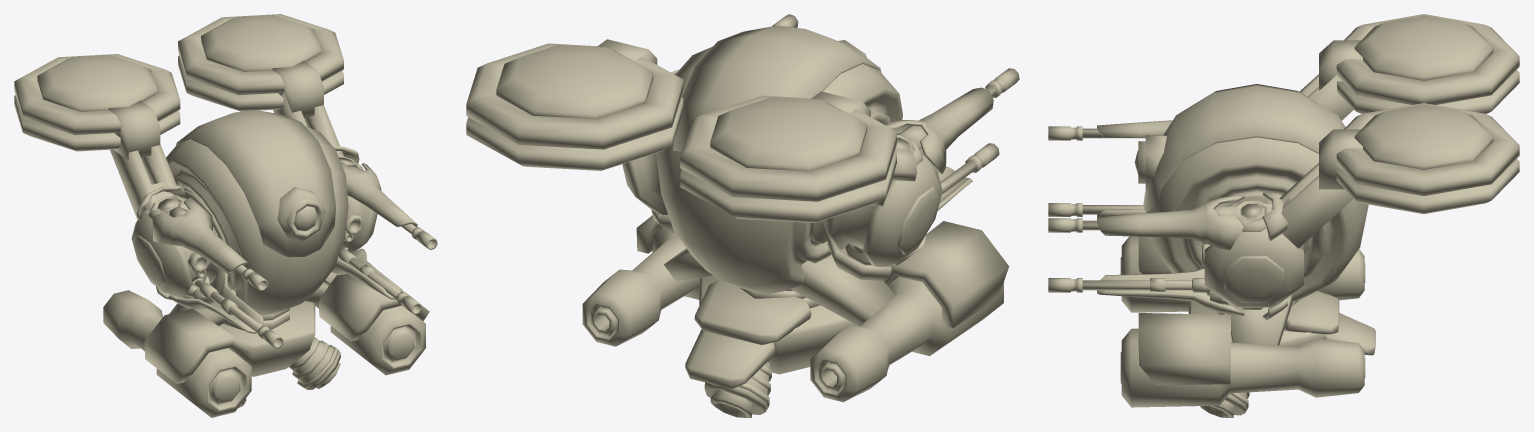
Rendered from robot02.obj.
3 views of the same model, side by side, from view 1: azimuth 30°, elevation 25°; view 2: azimuth 150°, elevation 25°; view 3: azimuth 270°, elevation 25° (orthographic). The views are drawn at different scales.
Visible parts, largest first — view 1: Generic, Cube, Cylinder, Sphere; view 2: Generic, Cube, Cylinder, Sphere; view 3: Generic, Cube, Cylinder, Sphere.
Boxes of the visible parts, x1,y1,x2,y2 form: Generic: (103,14,429,417); Cube: (14,54,348,315); Cylinder: (131,146,437,407); Sphere: (219,301,315,376); Generic: (466,25,1009,402); Cube: (656,46,902,294); Cylinder: (622,14,1019,417); Sphere: (699,275,857,374); Generic: (1120,84,1519,407); Cube: (1146,14,1519,301); Cylinder: (1048,120,1303,417); Sphere: (1188,301,1325,346).
Size of the model in its own units: 1.35 by 1.17 by 1.58.
